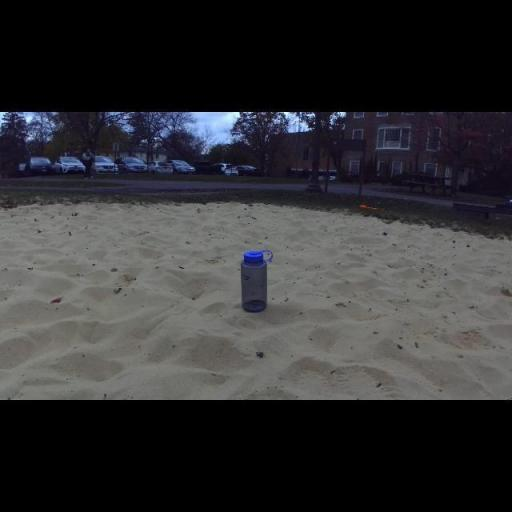bottle: (240, 250, 274, 314)
